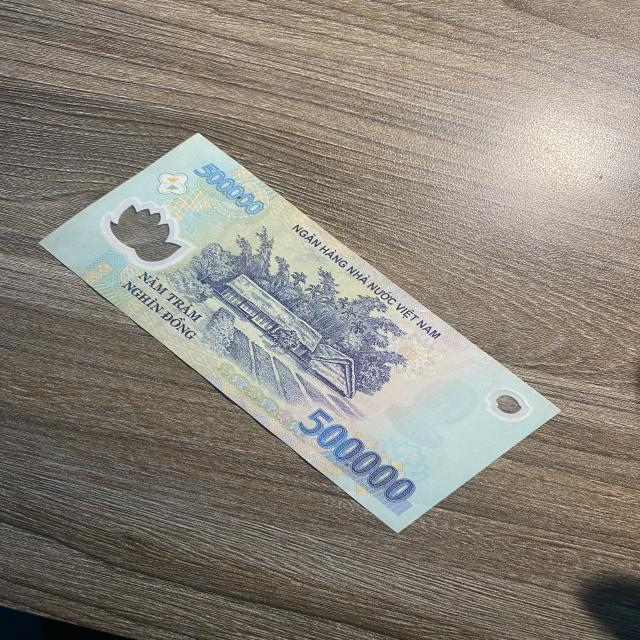500 000 VND: (36, 130, 563, 535)
